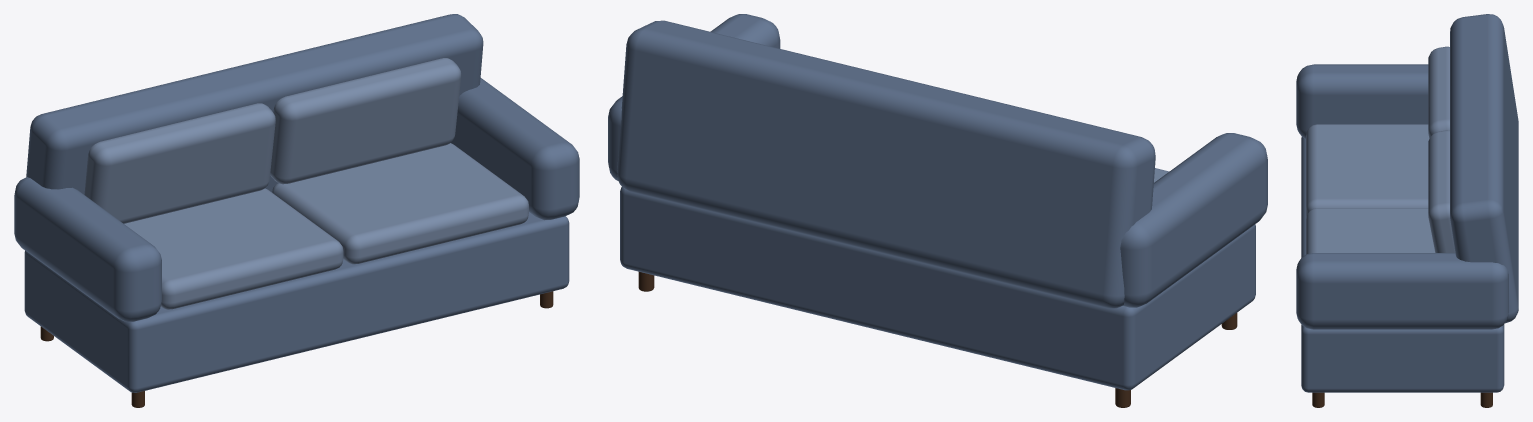
The model's file is sofa_basic.glb.
3 renders of one model, left to right at view 1: azimuth 30°, elevation 25°; view 2: azimuth 150°, elevation 25°; view 3: azimuth 270°, elevation 25°, orthographic. The views are drawn at different scales.
Parts seen in each view (by area): view 1: Cube, Cube.001, Cube.006, Cube.007, Cube.005, Cube.004, Cube.002, Cube.003; view 2: Cube.001, Cube, Cube.002, Cube.003; view 3: Cube.001, Cube.003, Cube, Cube.004, Cube.002, Cube.006, Cube.007, Cube.005.
Part boxes in pixels (box(x1,y1,x2,y2)): Cube: box(24, 212, 569, 392); Cube.001: box(26, 14, 483, 194); Cube.006: box(272, 143, 528, 264); Cube.007: box(270, 58, 461, 184); Cube.005: box(84, 103, 275, 223); Cube.004: box(124, 188, 343, 309); Cube.002: box(14, 177, 161, 321); Cube.003: box(451, 78, 579, 220); Cube.001: box(617, 20, 1155, 308); Cube: box(620, 187, 1255, 390); Cube.002: box(1120, 133, 1267, 307); Cube.003: box(608, 14, 780, 180); Cube.001: box(1450, 14, 1518, 323); Cube.003: box(1296, 253, 1508, 329); Cube: box(1301, 137, 1504, 392); Cube.004: box(1306, 124, 1429, 216); Cube.002: box(1296, 64, 1428, 138); Cube.006: box(1306, 208, 1435, 254); Cube.007: box(1428, 130, 1455, 252); Cube.005: box(1428, 46, 1449, 138).
Bounding box in the file's own units: 2 × 0.9193 × 0.8989.
